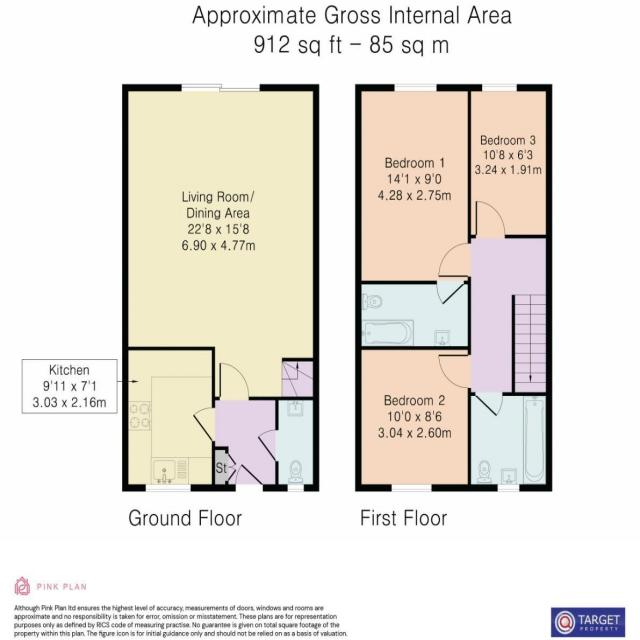DOOR: (435, 352, 472, 392), (474, 198, 509, 238), (436, 240, 471, 279), (218, 360, 251, 400), (233, 460, 268, 492), (433, 280, 472, 308), (469, 391, 506, 420), (190, 406, 215, 444), (256, 428, 279, 464)
ROOM: (121, 83, 320, 401), (355, 84, 471, 312), (355, 346, 472, 492), (122, 347, 215, 492), (466, 83, 552, 238)
SLIDING DOOR: (179, 79, 263, 96)
WINDOW: (143, 482, 192, 495), (392, 81, 438, 94), (391, 482, 433, 494), (481, 82, 519, 94), (497, 482, 521, 493)
